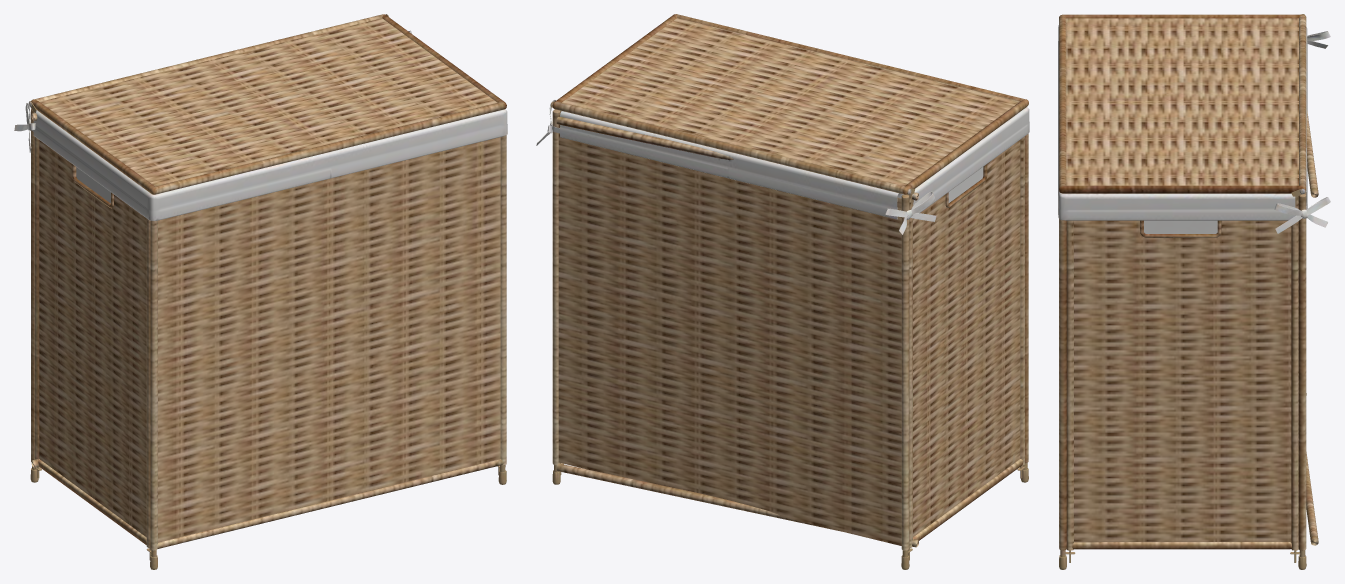
The model's file is LB-BR-HAMPER-02.glb.
The picture shows the model from 3 angles, left to right: view 1: azimuth 30°, elevation 25°; view 2: azimuth 150°, elevation 25°; view 3: azimuth 270°, elevation 25°; orthographic projection.
Visible parts, largest first — view 1: Mesh_0; view 2: Mesh_0; view 3: Mesh_0.
Part boxes in pixels (<box>): Mesh_0: <box>14,14,507,569</box>; Mesh_0: <box>536,14,1029,569</box>; Mesh_0: <box>1058,14,1330,569</box>.
Bounding box in the file's own units: 0.6428 × 0.6104 × 0.3944.
Materials: 1 (1 with a texture image).
